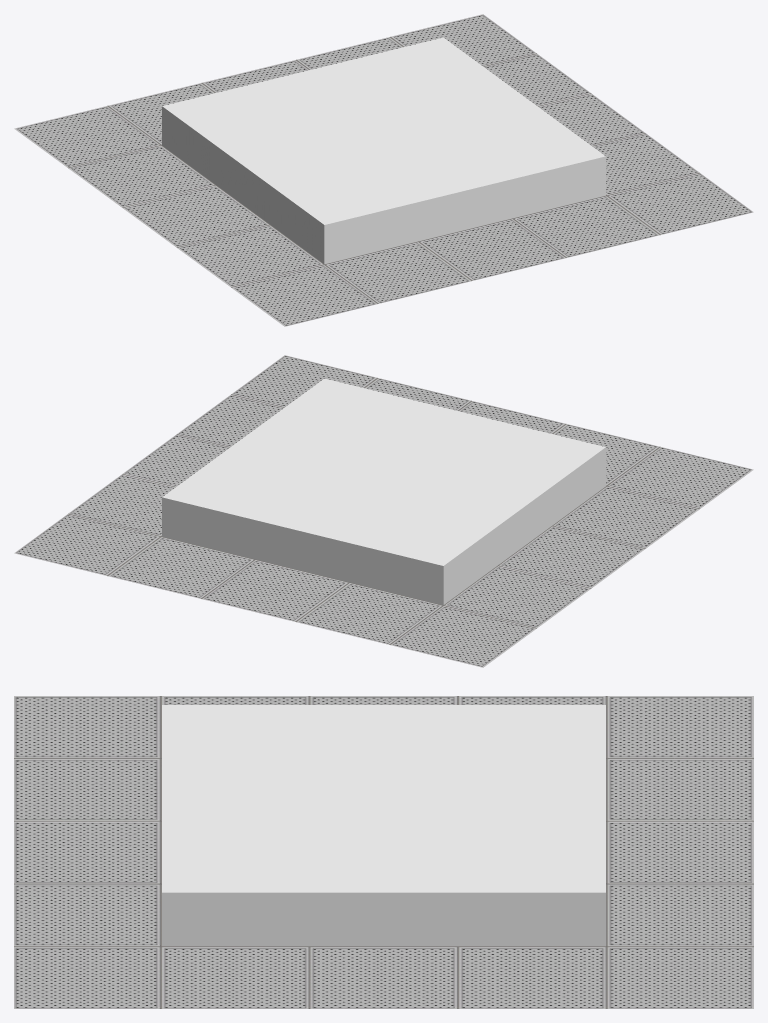
File: MiniRoomCeiling.fbx
The picture shows the model from 3 angles, top to bottom: view 1: azimuth 30°, elevation 25°; view 2: azimuth 150°, elevation 25°; view 3: azimuth 270°, elevation 25°; orthographic projection. The views are drawn at different scales.
Parts seen in each view (by area): view 1: MiniRoomCeiling; view 2: MiniRoomCeiling; view 3: MiniRoomCeiling.
Boxes of the visible parts, left/top/right/bottom form: MiniRoomCeiling: left=14, top=14, right=753, bottom=326; MiniRoomCeiling: left=14, top=355, right=753, bottom=667; MiniRoomCeiling: left=14, top=696, right=753, bottom=1008.
Size of the model in its own units: 1593 by 127 by 1592.
Materials: 2 (1 with a texture image).
